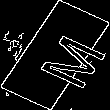M_NW: (15, 23, 95, 87)
